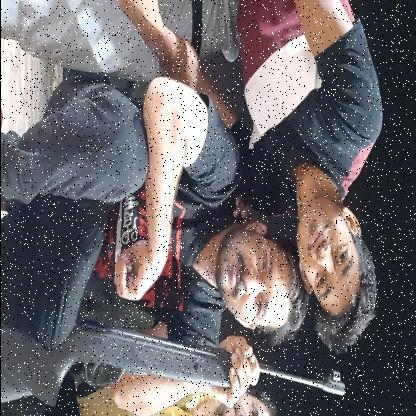rifle: (0, 318, 348, 414)
